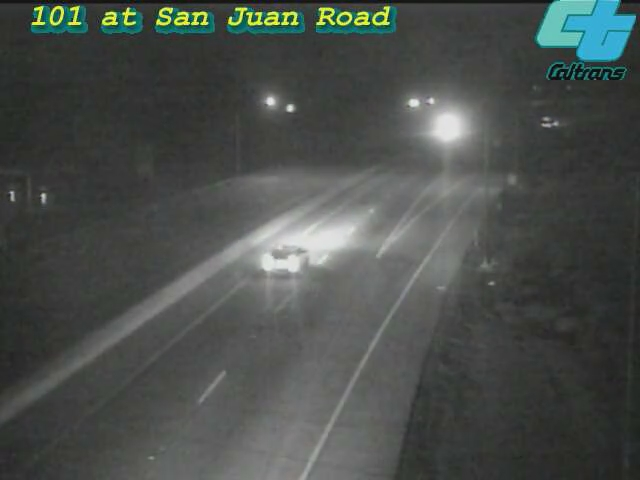vehicle: (248, 215, 328, 295), (419, 104, 469, 154), (529, 96, 579, 146)
